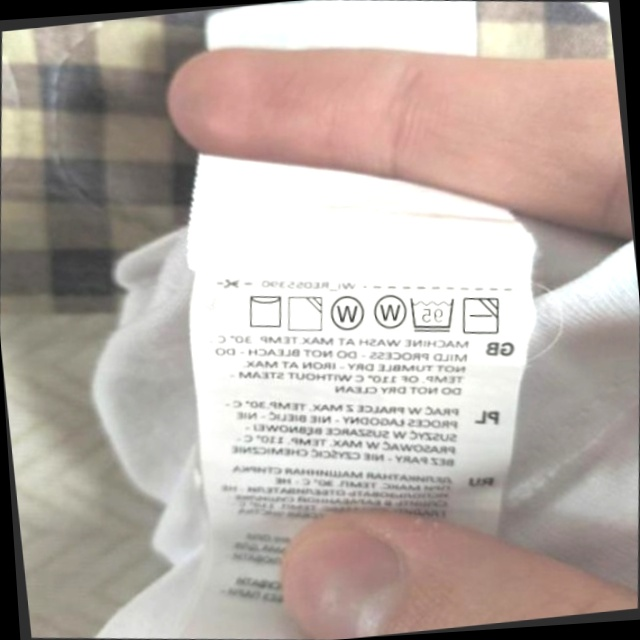95C: (404, 290, 460, 338)
dry_flat_in_shade: (457, 290, 506, 340)
line_dry: (241, 287, 288, 334)
shade_dry: (282, 290, 328, 337)
wet_clean: (325, 290, 369, 337), (367, 287, 410, 334)
